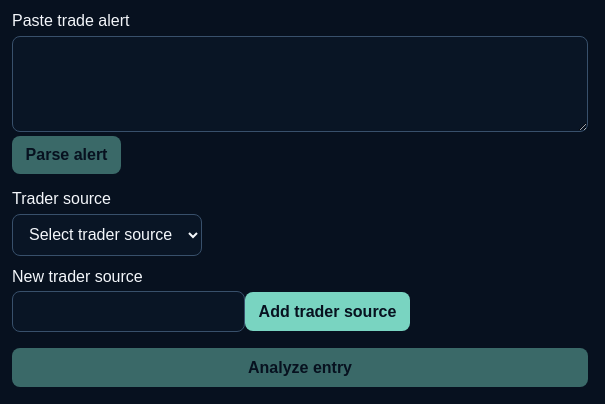
Scenario: AlertPasteForm › creates and selects a trader source for the current user
In the field labelled "New trader source": (128, 312) [12,291,245,332], type "Private room"
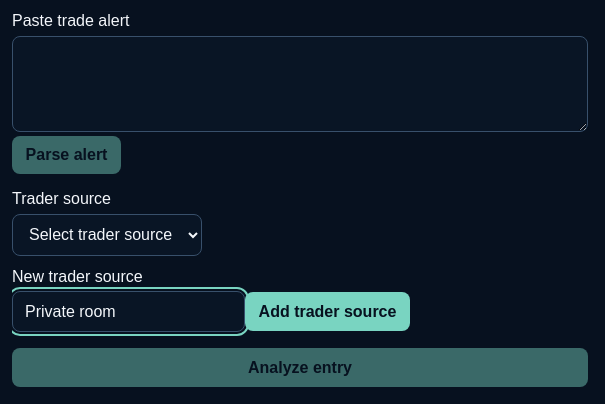
Click the button "Add trader source": (328, 312) [245,292,410,331]
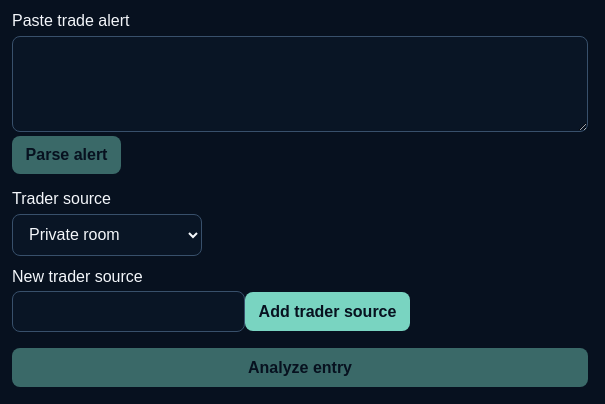
Result: the dropdown labelled "Trader source" shows "Private room" at [12,214,202,256]
